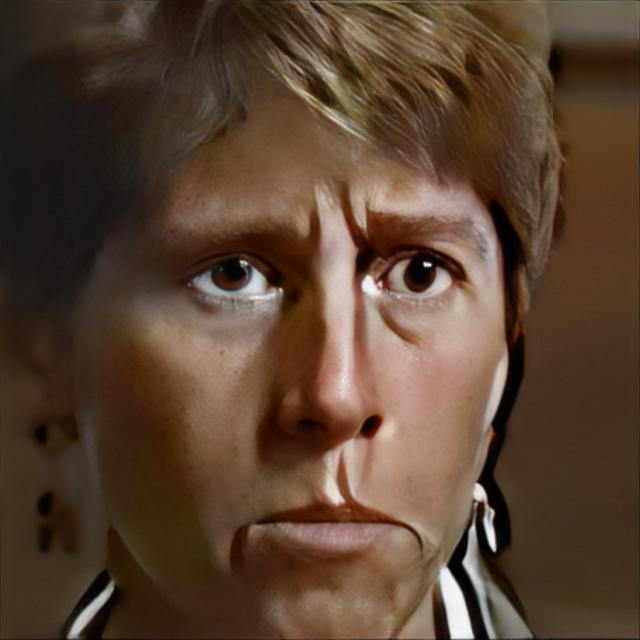fear: (68, 70, 500, 632)
